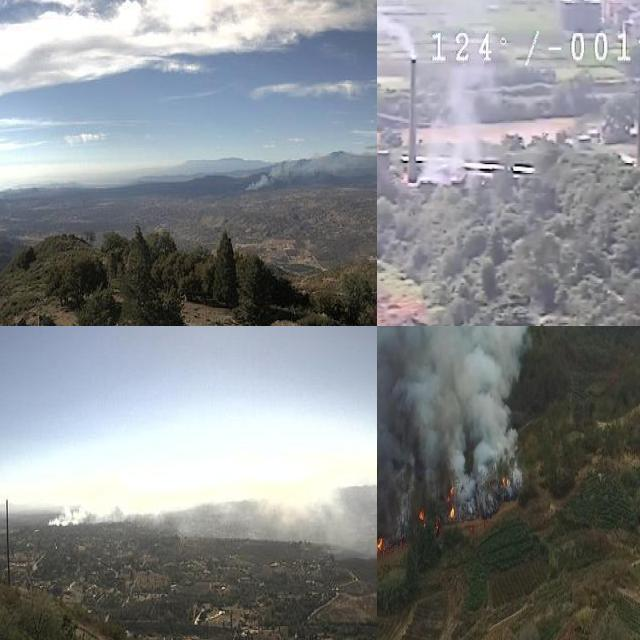fire: (377, 381, 533, 577)
smoke: (377, 326, 553, 516), (45, 475, 347, 537), (418, 0, 495, 184), (239, 138, 377, 194), (377, 0, 416, 60)
